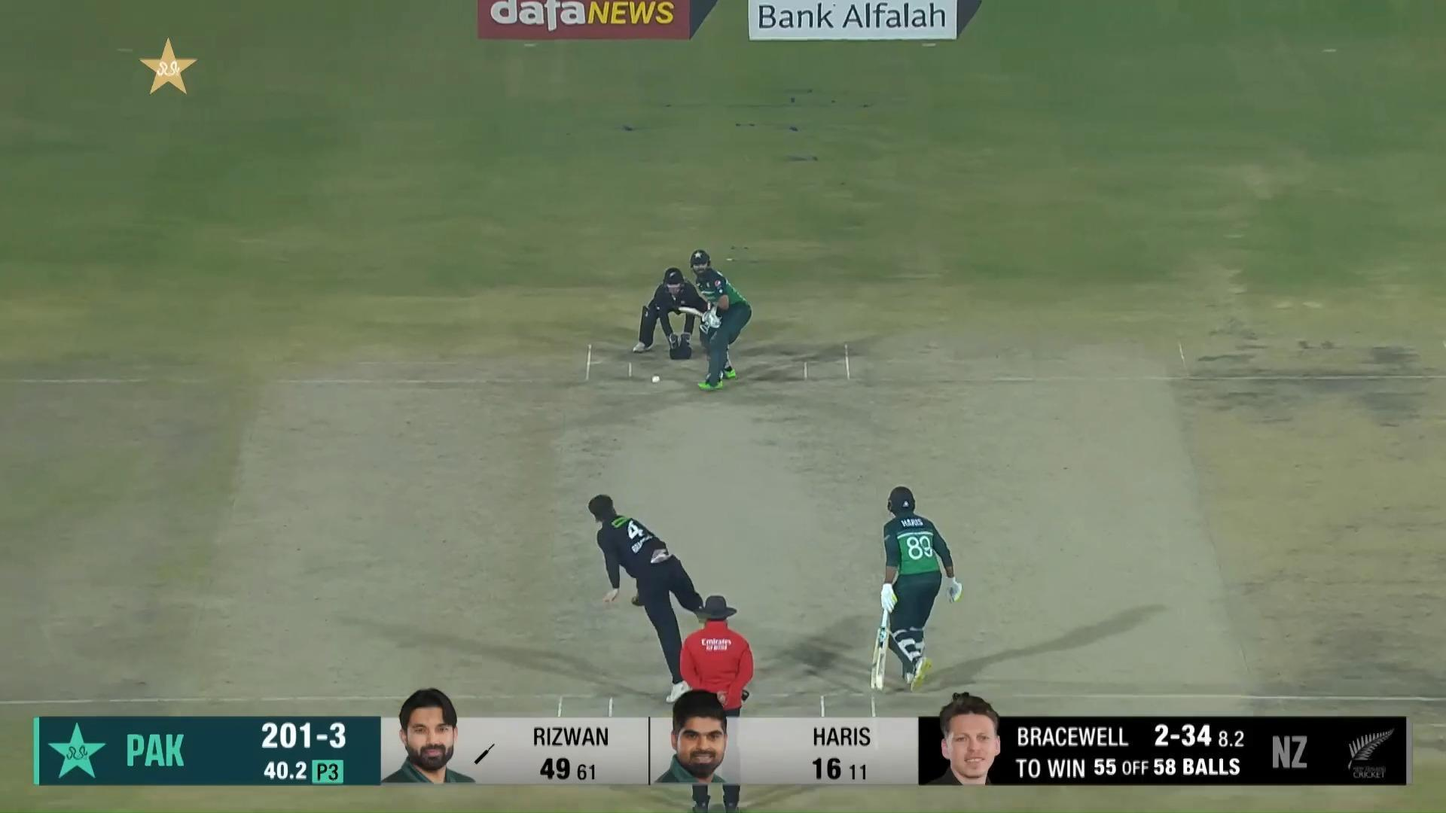BM 1: (678, 248, 752, 391)
BO: (587, 494, 706, 702)
